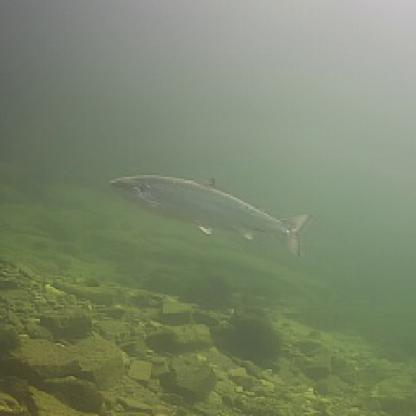salmon: (102, 164, 314, 262)
